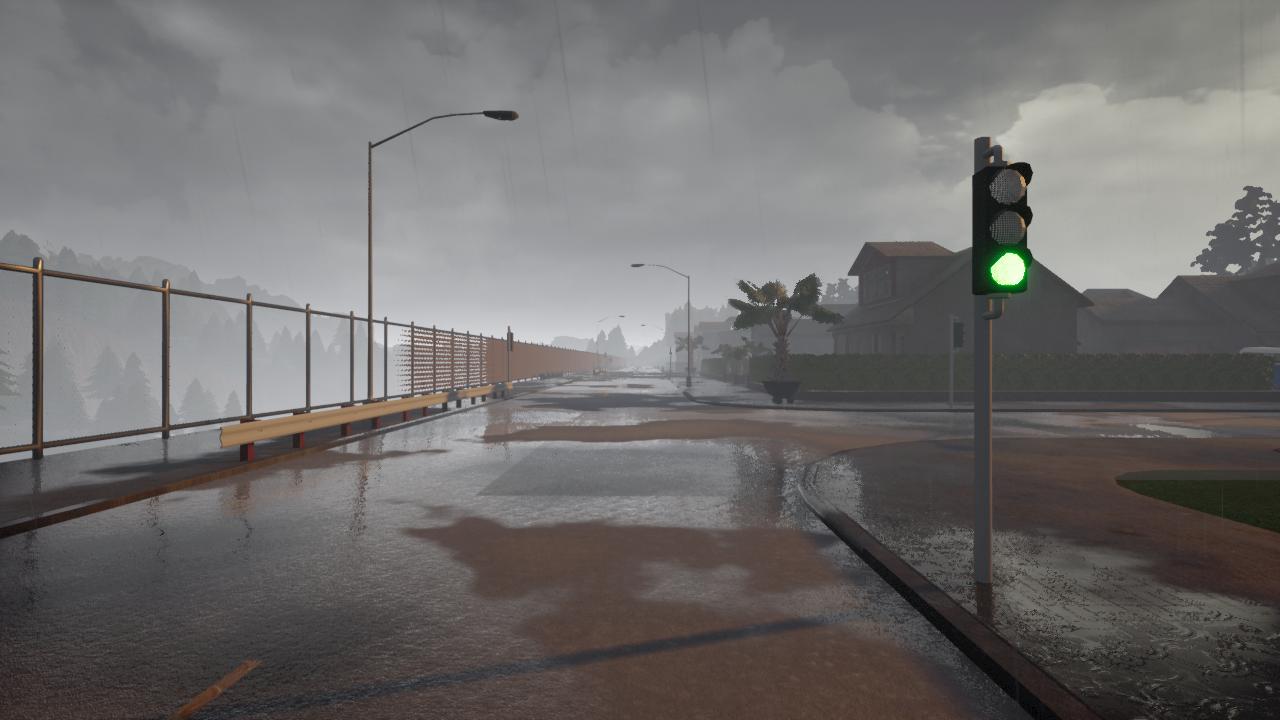green: (960, 163, 1027, 292)
